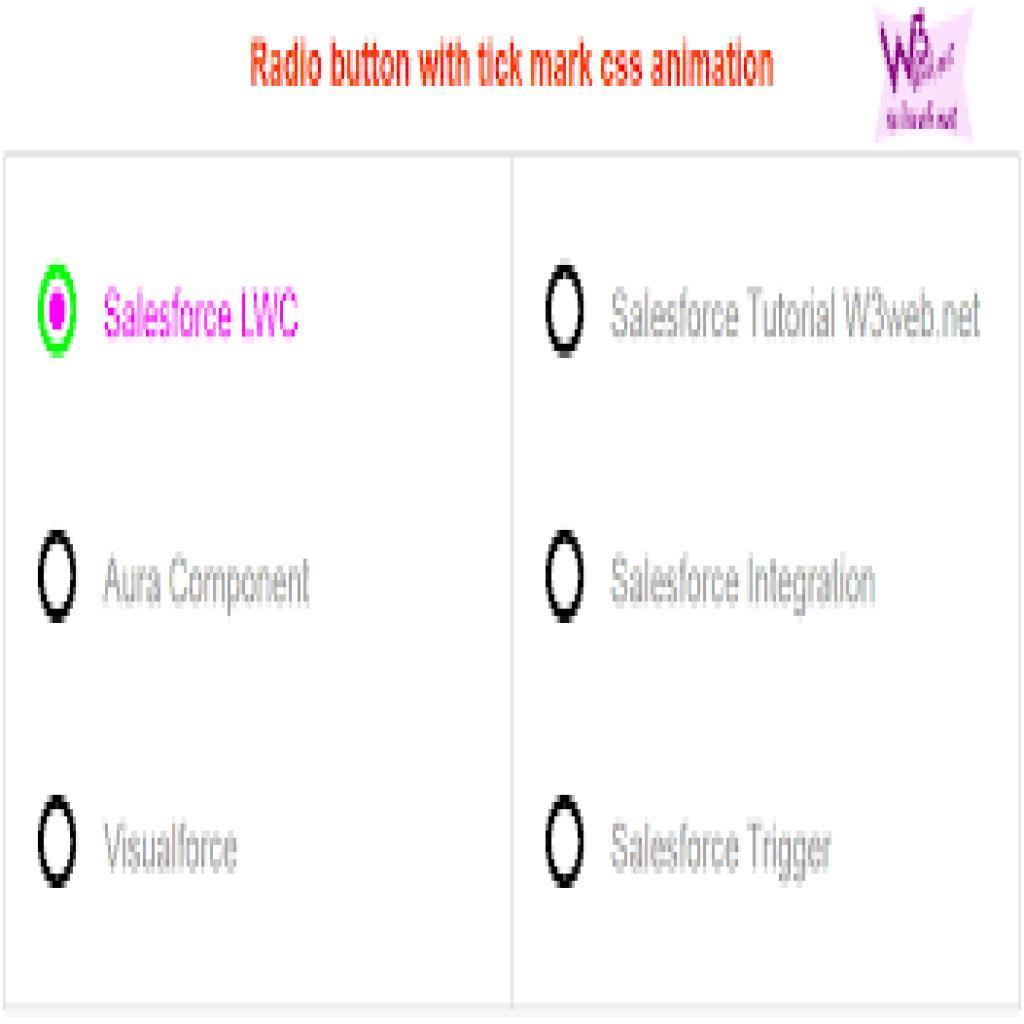radio: (543, 773, 599, 897), (35, 787, 79, 897), (545, 522, 587, 631), (548, 259, 589, 360), (40, 527, 80, 625), (42, 258, 76, 367)
